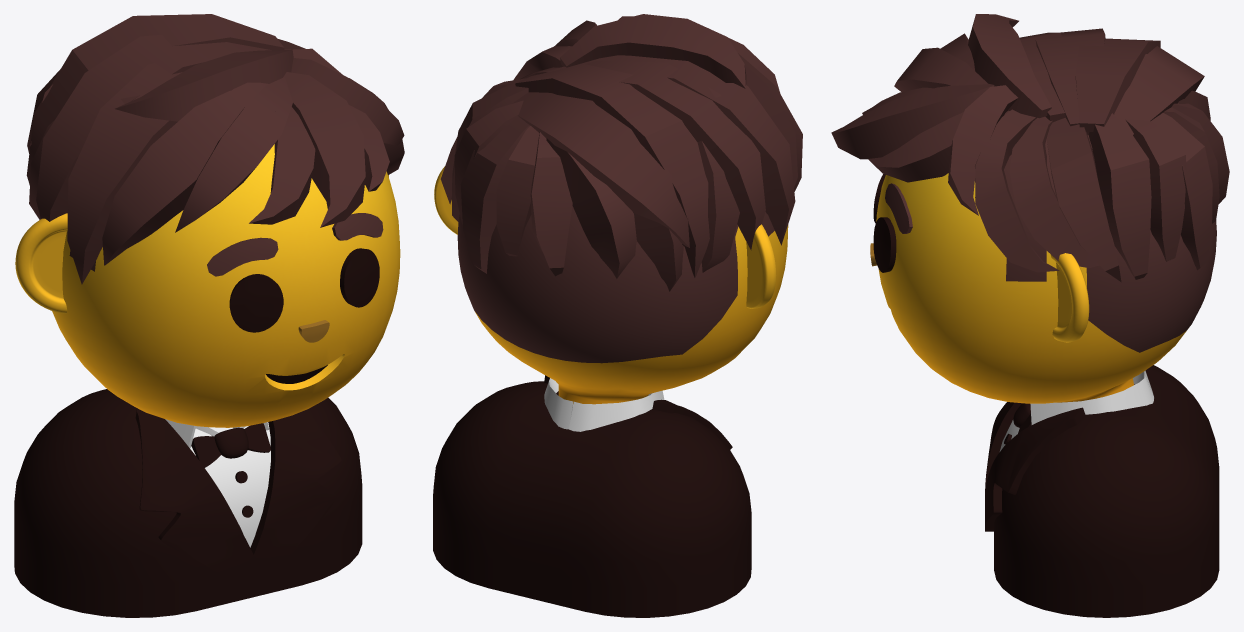
File: person_in_tuxedo.gltf
3 renders of one model, left to right at view 1: azimuth 30°, elevation 25°; view 2: azimuth 150°, elevation 25°; view 3: azimuth 270°, elevation 25°, orthographic. The views are drawn at different scales.
Parts seen in each view (by area): view 1: Cube.2116, Roundcube.171, Sphere.142, Circle.862, Circle.858, Cylinder.139, Circle.861, Circle.863, Cube.2124, Plane.086; view 2: Cube.2116, Sphere.142, Roundcube.171, Plane.086, Cylinder.139, Circle.862; view 3: Cube.2116, Roundcube.171, Sphere.142, Circle.862, Cylinder.139, Plane.086, Circle.858, Circle.861.
Part boxes in pixels (<box>): Cube.2116: <box>26,14,404,284</box>; Roundcube.171: <box>52,144,400,427</box>; Sphere.142: <box>14,389,362,617</box>; Circle.862: <box>135,409,341,581</box>; Circle.858: <box>229,248,379,332</box>; Cylinder.139: <box>15,175,388,313</box>; Circle.861: <box>207,213,383,276</box>; Circle.863: <box>191,423,270,467</box>; Cube.2124: <box>214,427,248,458</box>; Plane.086: <box>165,419,268,448</box>; Cube.2116: <box>440,14,802,291</box>; Sphere.142: <box>433,381,751,617</box>; Roundcube.171: <box>457,206,788,404</box>; Plane.086: <box>544,378,664,431</box>; Cylinder.139: <box>434,166,776,308</box>; Circle.862: <box>544,375,732,449</box>; Cube.2116: <box>831,14,1229,282</box>; Roundcube.171: <box>876,110,1216,403</box>; Sphere.142: <box>994,365,1219,617</box>; Circle.862: <box>985,402,1085,531</box>; Cylinder.139: <box>1050,253,1089,342</box>; Plane.086: <box>1030,370,1153,424</box>; Circle.858: <box>873,174,896,272</box>; Circle.861: <box>885,183,912,233</box>.
Size of the model in its own units: 1.76 by 2.48 by 1.77.
6 materials, 2 textured.
